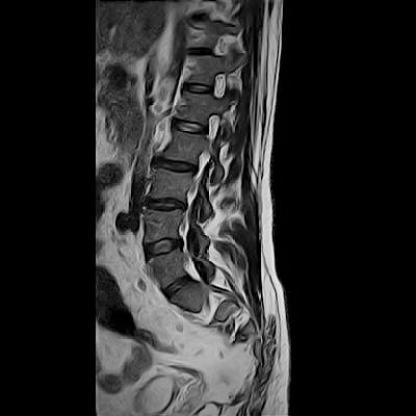Disc Bulgerotation: (145, 195, 184, 215), (145, 238, 181, 259), (159, 158, 197, 175)
